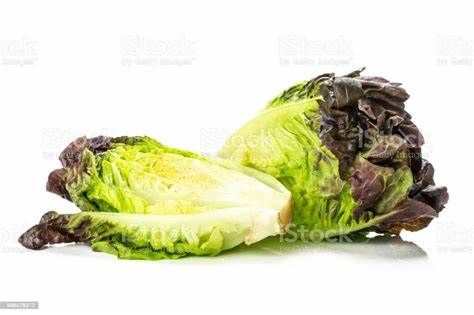Lettuce: (207, 63, 451, 254), (14, 123, 296, 272)
